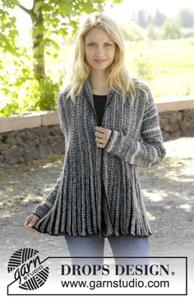S_cardigan sweater: (23, 80, 176, 244)
